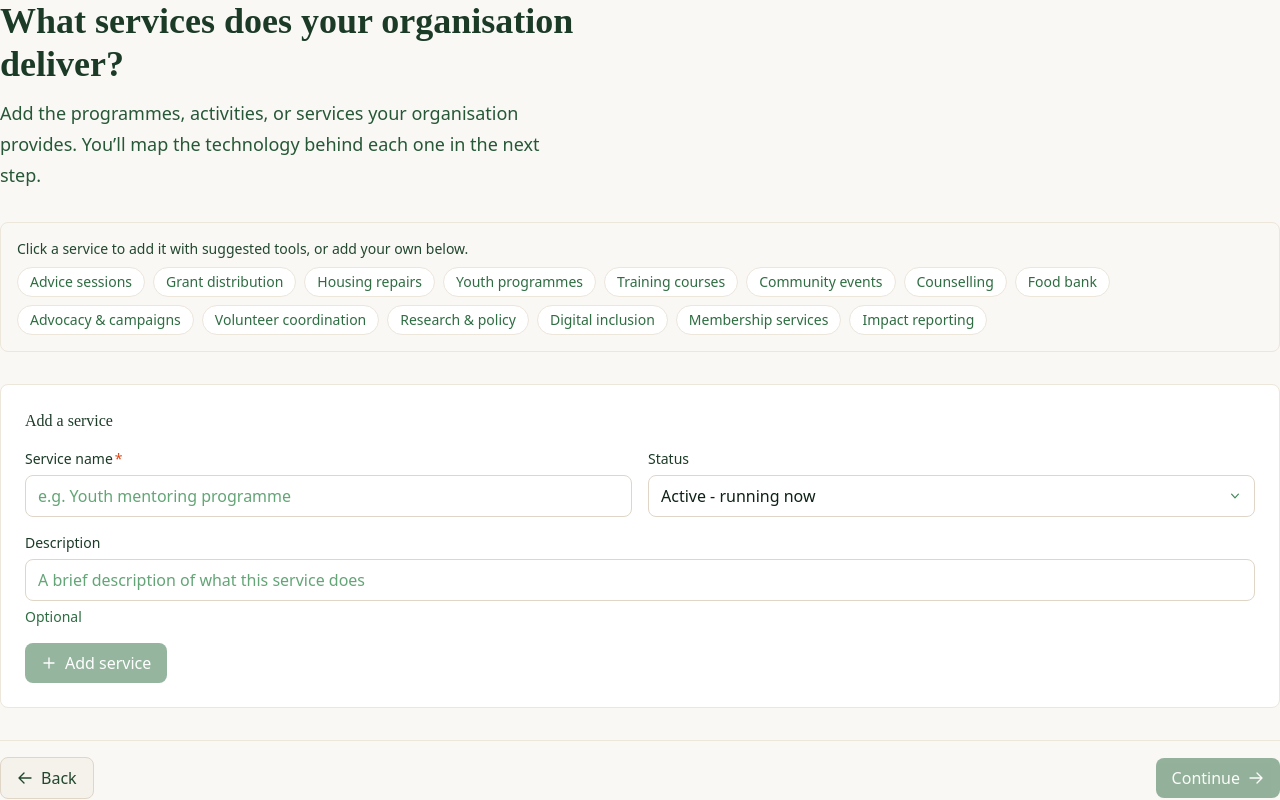
it: ServiceListForm › removes a service from the list
Type "Debt counselling" into the field labelled "Service name*".
click(328, 496); type("Debt counselling")  # box [25, 475, 632, 517]
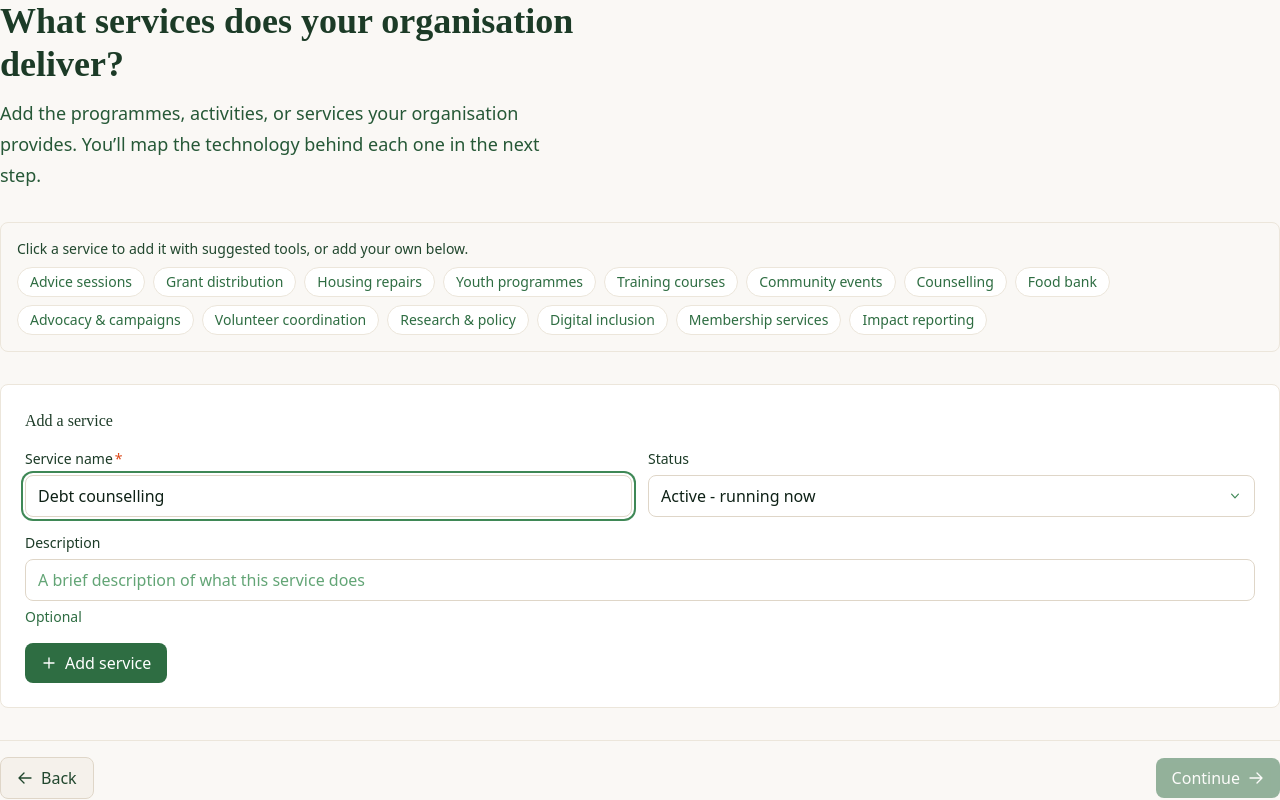
Click the button "Add service".
click(96, 663)  # box [25, 643, 167, 683]
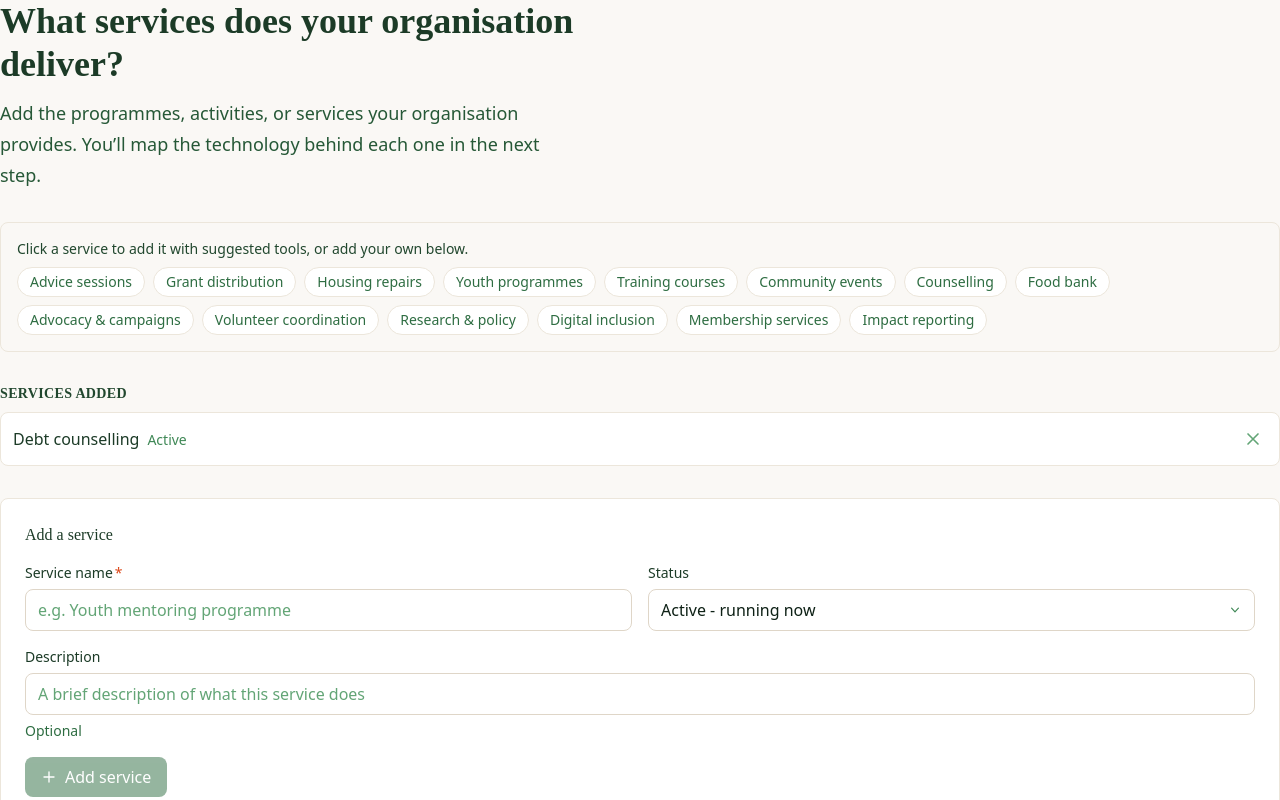
Now the text "Debt counselling" is shown, box [13, 428, 139, 450]
Click the button named "remove debt counselling".
click(1253, 439)  # box [1239, 425, 1267, 453]
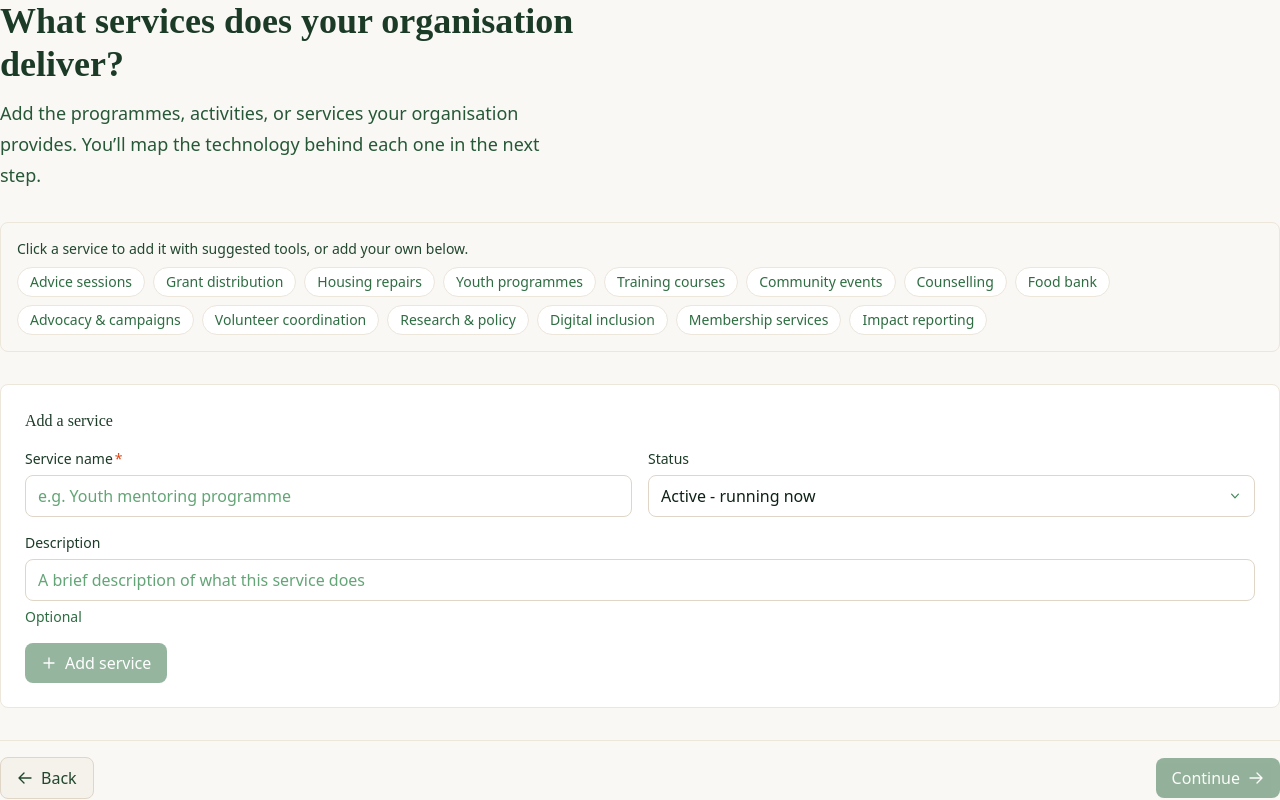
Now the text "Debt counselling" is gone
